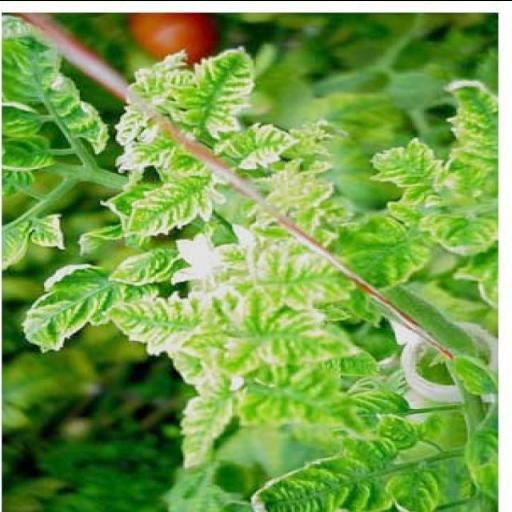disease_tomato: (0, 12, 116, 170), (213, 287, 367, 377), (242, 449, 396, 512), (20, 262, 122, 354), (162, 43, 260, 133), (438, 74, 498, 198), (125, 166, 228, 238), (102, 288, 204, 358), (166, 382, 240, 472), (362, 134, 444, 206), (420, 210, 498, 260), (221, 120, 303, 167)
